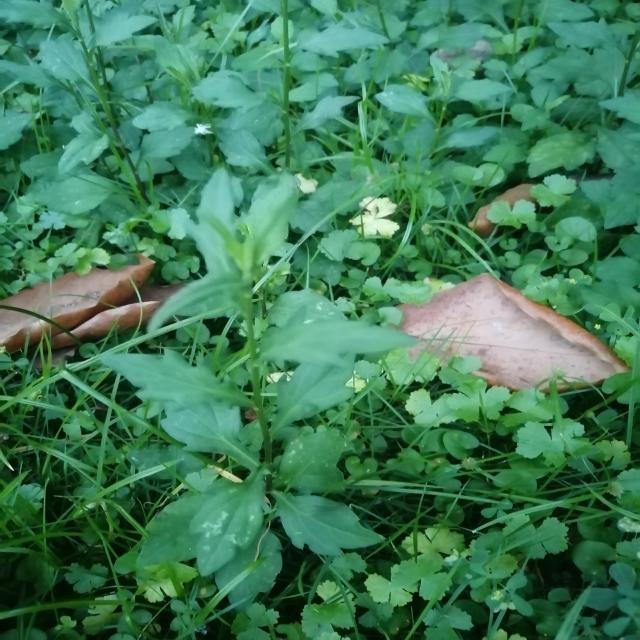Indian aster: (122, 193, 406, 588)
